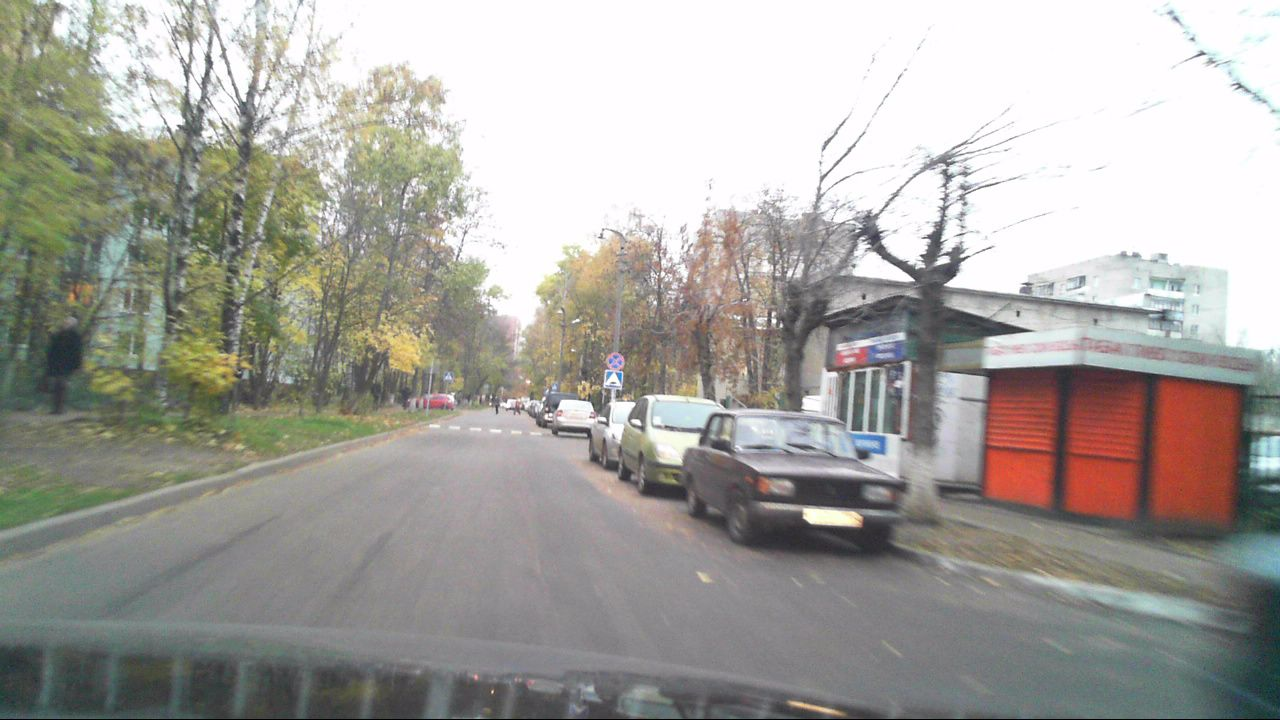No Parking: (606, 352, 623, 369)
